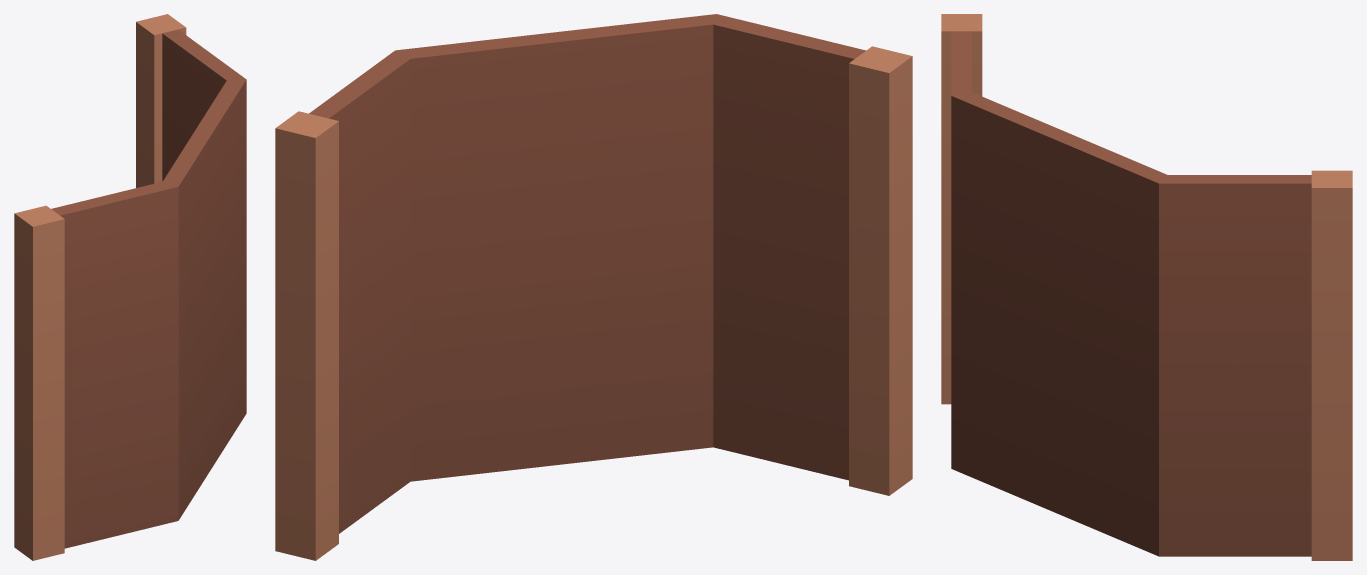
Rendered from wall-kn-wall-wood-corner-diagonal.glb.
3 renders of one model, left to right at view 1: azimuth 30°, elevation 25°; view 2: azimuth 150°, elevation 25°; view 3: azimuth 270°, elevation 25°, orthographic. The views are drawn at different scales.
Visible parts, largest first — view 1: wall-wood-corner-diagonal; view 2: wall-wood-corner-diagonal; view 3: wall-wood-corner-diagonal.
Part boxes in pixels (box(x1,y1,x2,y2)): wall-wood-corner-diagonal: box(14, 14, 246, 560); wall-wood-corner-diagonal: box(275, 14, 912, 560); wall-wood-corner-diagonal: box(941, 14, 1352, 560).
Size of the model in its own units: 3 by 3 by 3.
1 material, 1 textured.
